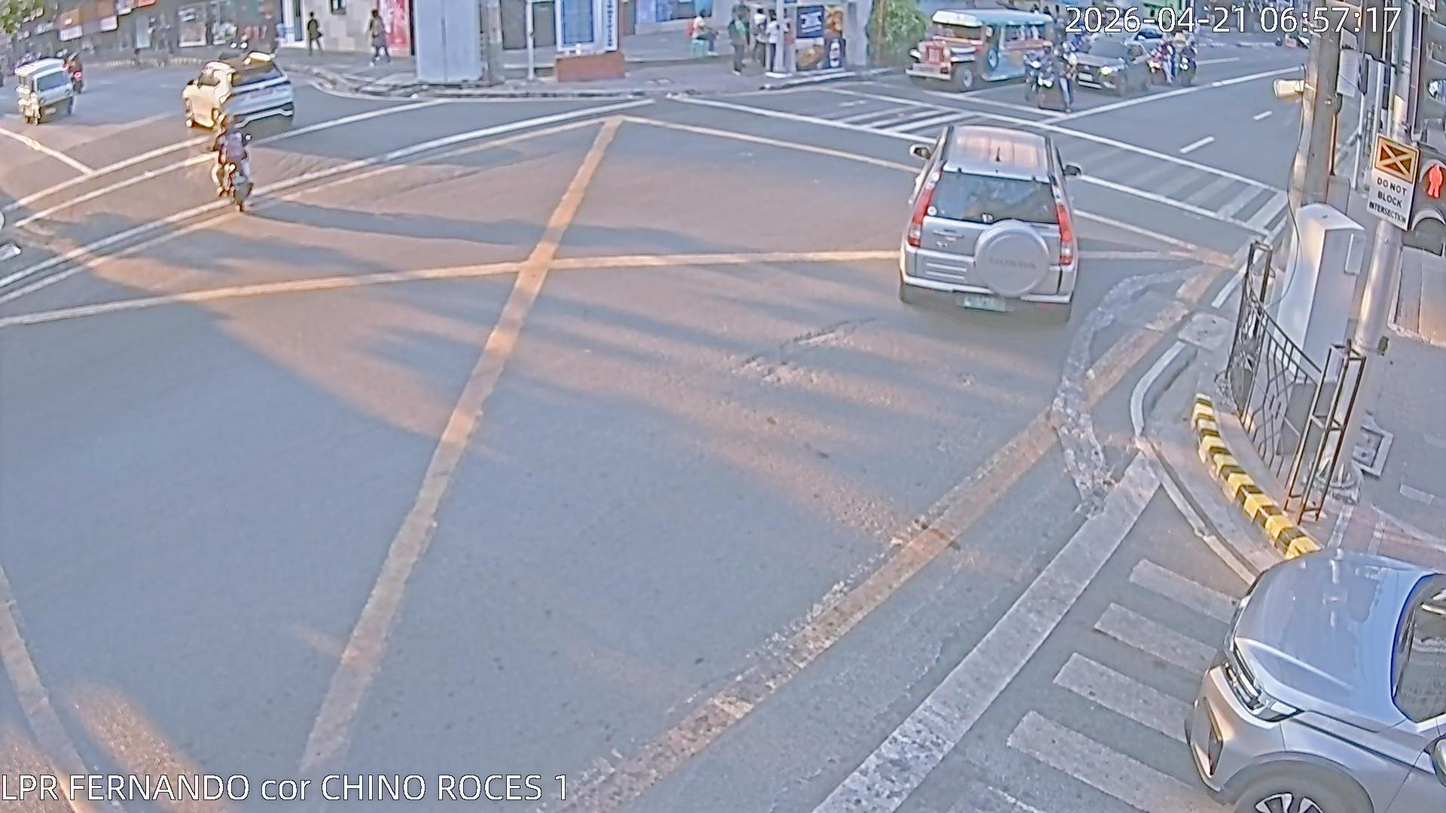Car: (1208, 539, 1446, 813), (914, 124, 1084, 320), (175, 49, 301, 146), (1069, 21, 1142, 107), (11, 62, 81, 133)
Motor: (197, 121, 269, 222), (1149, 30, 1225, 85), (1026, 71, 1084, 111), (1021, 23, 1044, 91)
